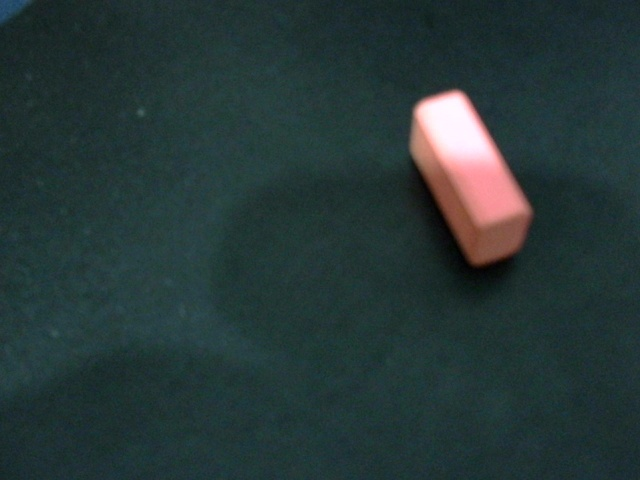eraser: (374, 92, 552, 276)
